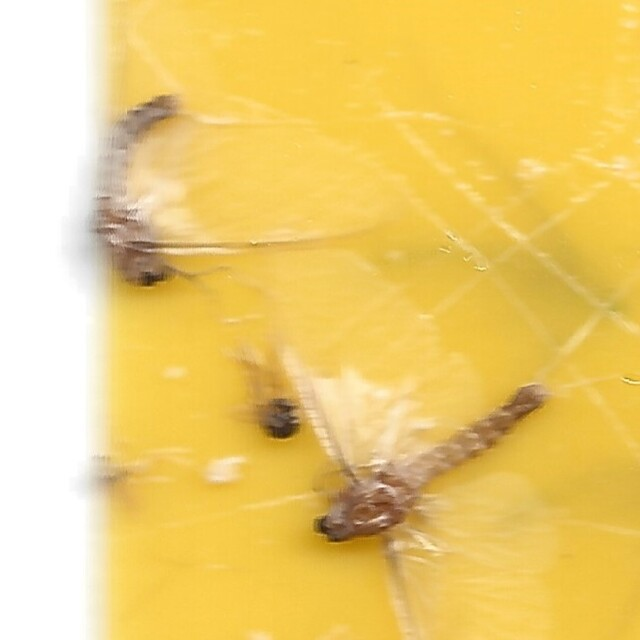Ephemeroptera: (315, 383, 546, 553), (94, 87, 176, 290)
